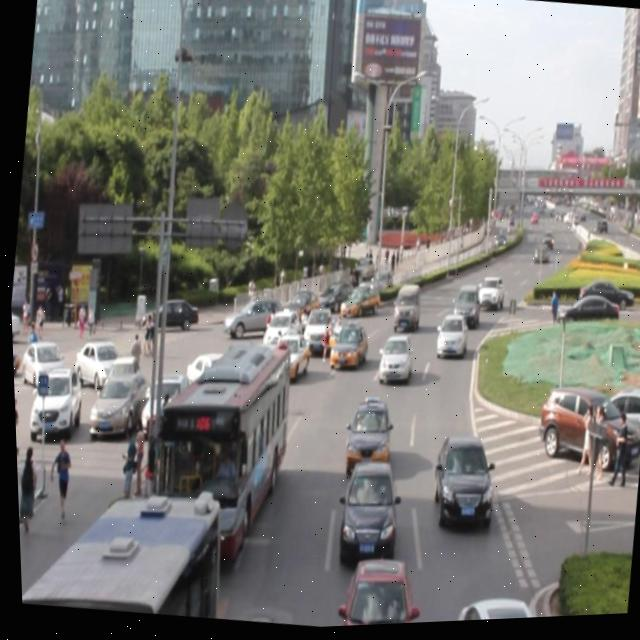car: (332, 460, 399, 564), (424, 433, 493, 532), (337, 556, 413, 629), (339, 400, 392, 475), (450, 591, 554, 625), (220, 291, 283, 345), (219, 336, 263, 397), (262, 327, 312, 380), (323, 313, 369, 369), (258, 308, 301, 359), (296, 298, 336, 352), (336, 274, 382, 319), (372, 335, 411, 386), (429, 314, 465, 364), (447, 286, 480, 334), (474, 276, 502, 312)
truck: (386, 283, 420, 335)
van: (14, 472, 223, 626), (143, 337, 294, 542)
